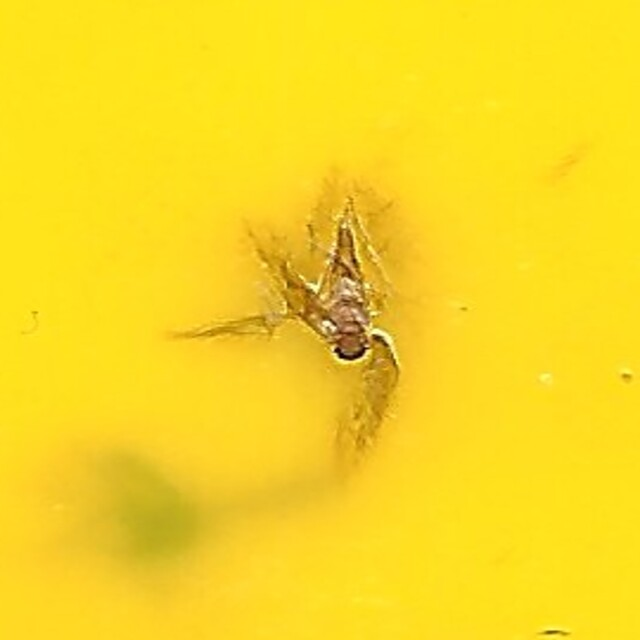Trichoptera: (237, 189, 403, 451)
